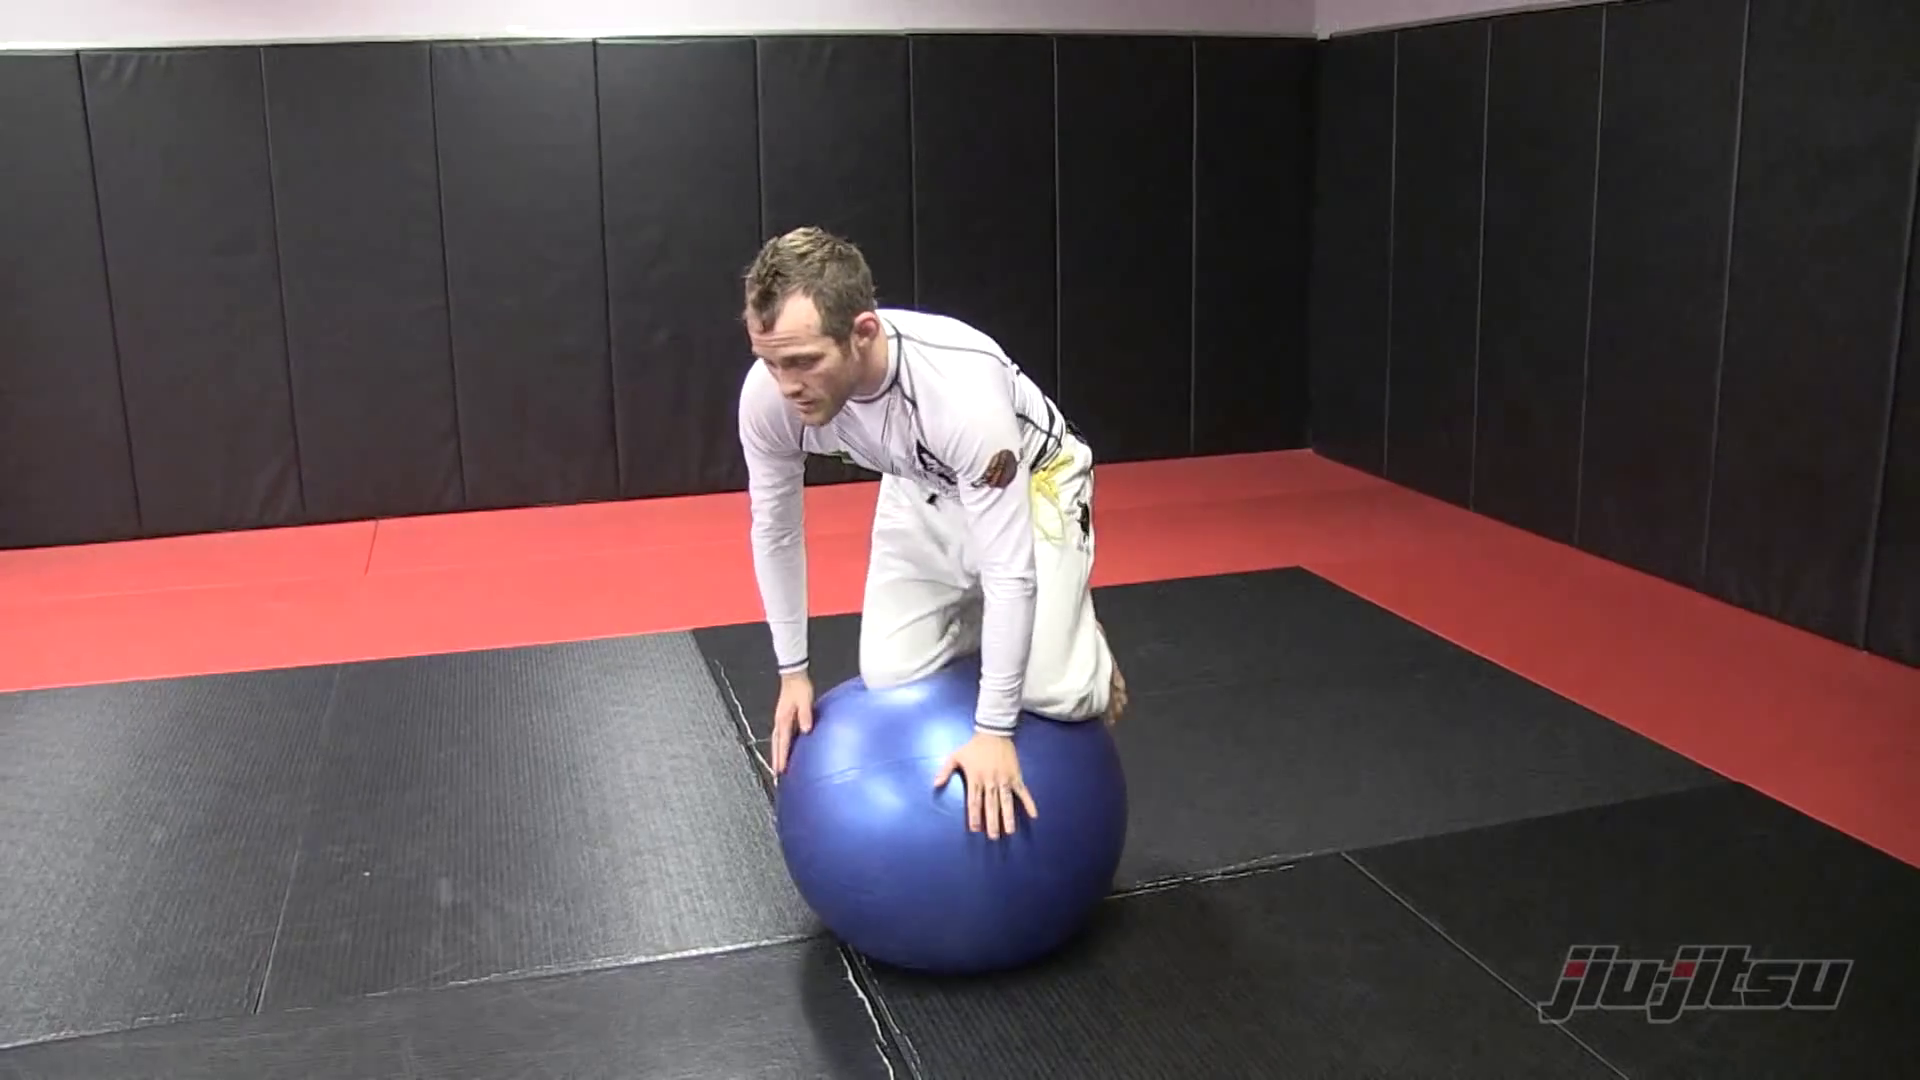yogaball: (749, 649, 1164, 992)
